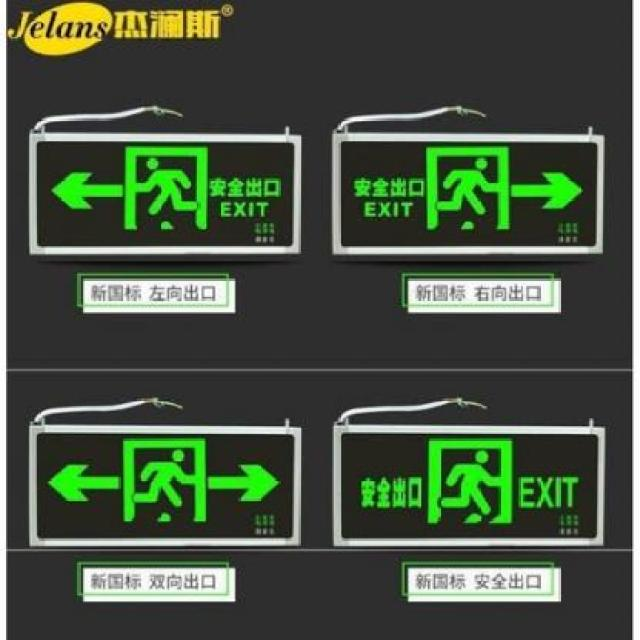exit_sign: (331, 111, 619, 271), (20, 108, 298, 252), (21, 412, 302, 541), (328, 418, 609, 546)
